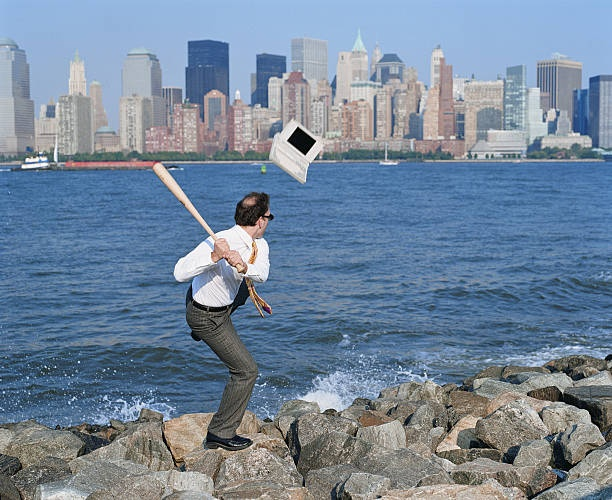bita: (148, 159, 245, 271)
